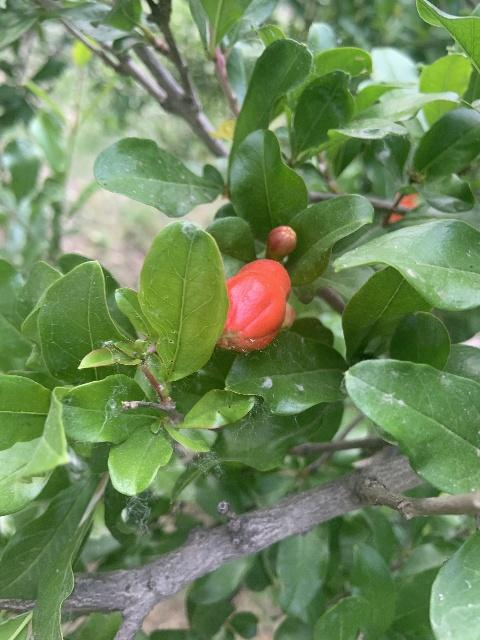bud: (218, 259, 288, 353), (265, 225, 296, 260), (279, 302, 295, 329)
